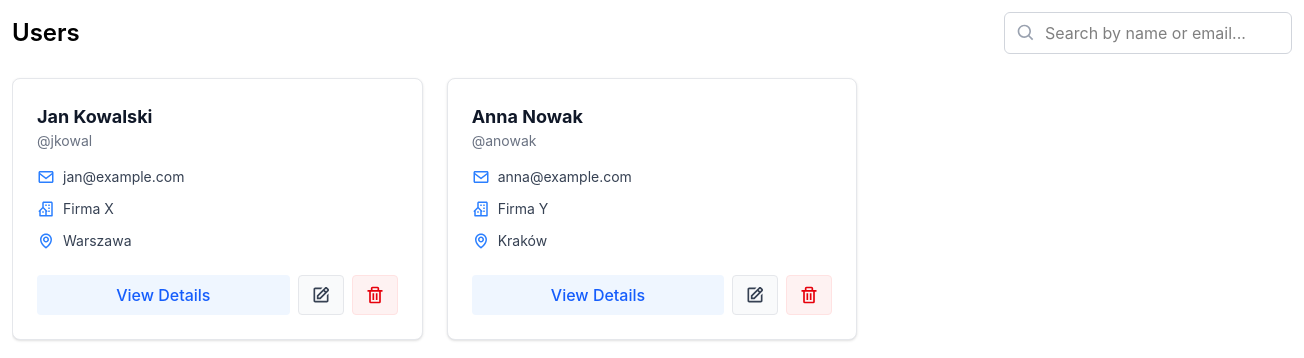
Test case: UserList Component › renders users and filters them by search query
Expected: the heading "Jan Kowalski" is shown, x1=37 y1=106 x2=152 y2=127
Expected: the heading "Anna Nowak" is shown, x1=472 y1=106 x2=583 y2=127
Type "Anna" into the field with placeholder "Search by name or email...".
click(1148, 33); type("Anna")  # box x1=1004 y1=12 x2=1292 y2=54
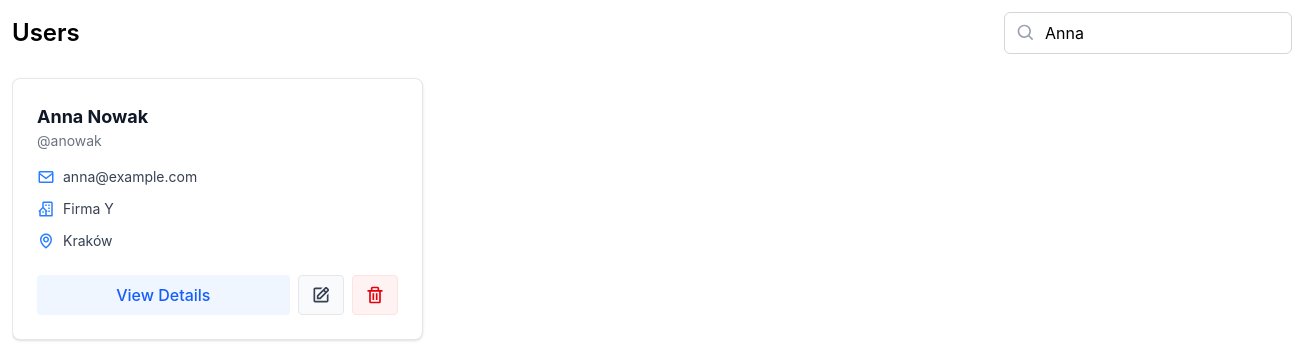
Expected: the heading "Anna Nowak" is shown, x1=37 y1=106 x2=148 y2=127
Expected: the heading "Jan Kowalski" is gone
